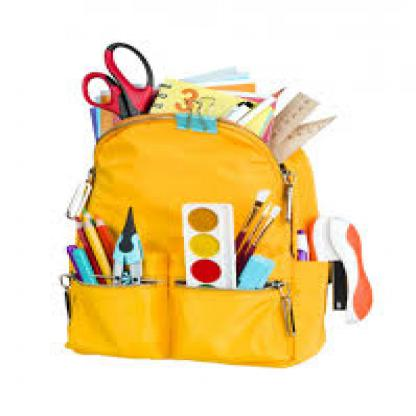morral: (46, 48, 387, 378)
